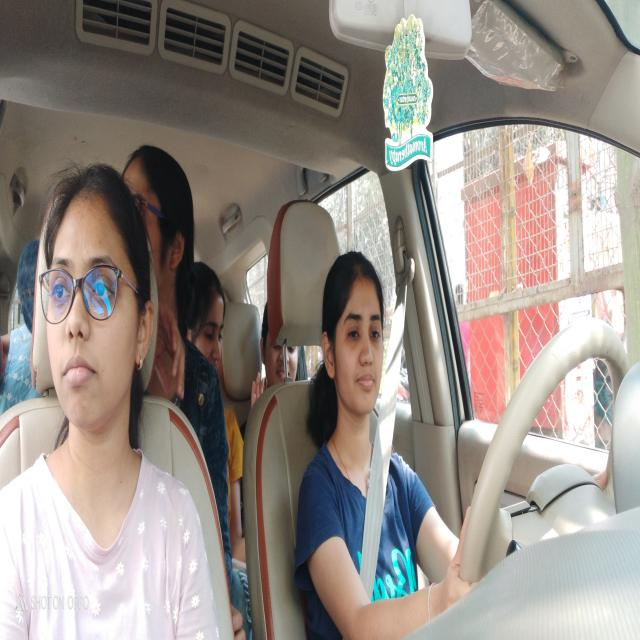person: (128, 146, 204, 297), (319, 249, 387, 416), (184, 266, 236, 378), (259, 299, 304, 394)
